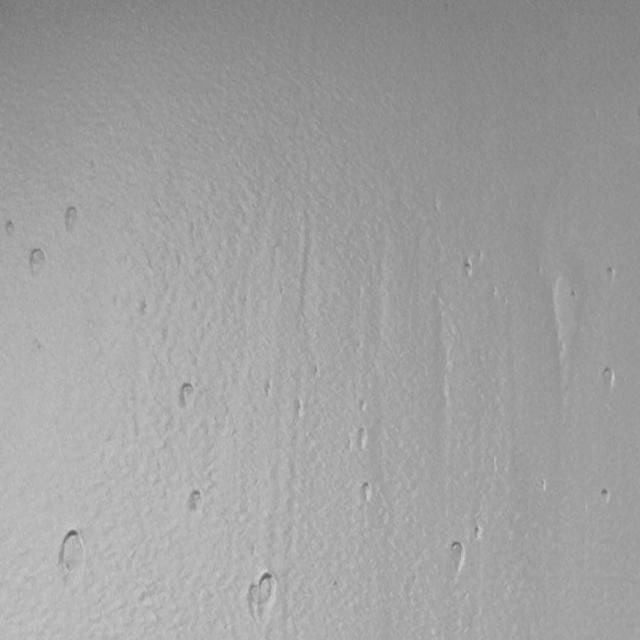pin holes: (243, 570, 281, 624), (55, 527, 92, 577), (26, 244, 50, 276), (60, 206, 84, 236), (445, 540, 467, 572), (175, 381, 198, 411), (184, 486, 205, 515), (597, 365, 616, 394), (358, 482, 376, 507), (354, 426, 371, 451), (137, 296, 154, 319), (462, 258, 478, 280), (291, 397, 306, 420), (4, 219, 20, 240), (597, 487, 613, 507), (604, 264, 619, 285), (473, 524, 486, 542), (570, 287, 583, 305), (263, 382, 275, 398), (358, 400, 370, 414)
